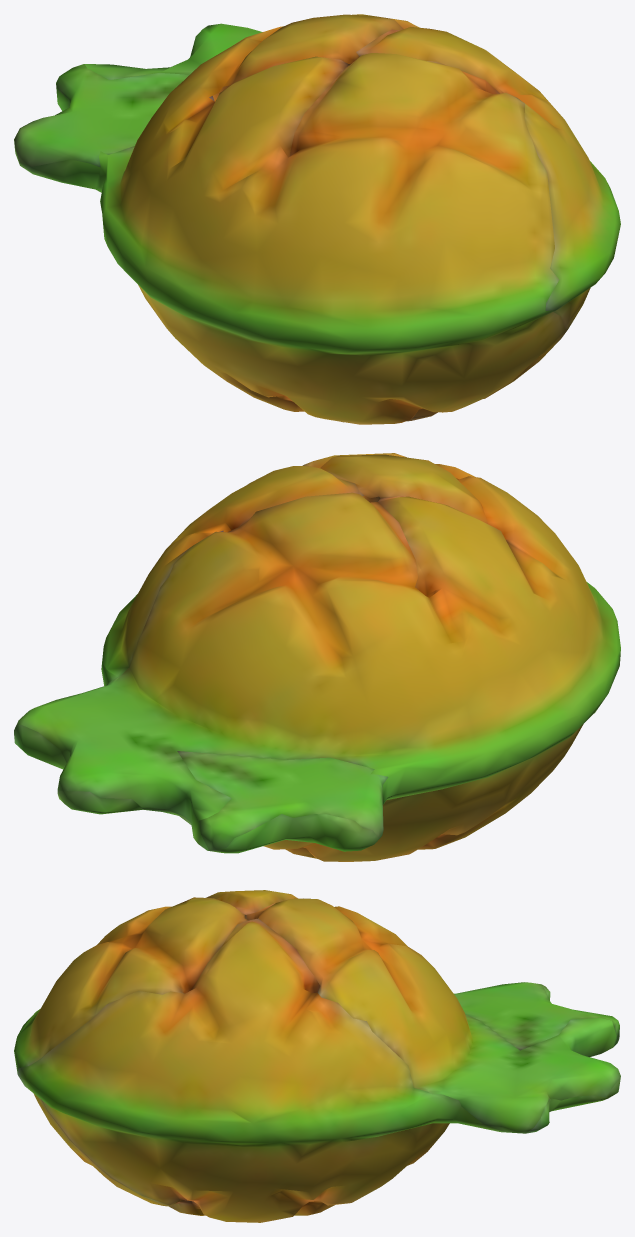
Rendered from PINEAPPLE_MARACA_6_PCSSET-medium.glb.
3 views of the same model, one above another, from view 1: azimuth 30°, elevation 25°; view 2: azimuth 150°, elevation 25°; view 3: azimuth 270°, elevation 25° (orthographic). The views are drawn at different scales.
Parts seen in each view (by area): view 1: PINEAPPLE_MARACA_6_PCSSET; view 2: PINEAPPLE_MARACA_6_PCSSET; view 3: PINEAPPLE_MARACA_6_PCSSET.
Boxes of the visible parts, box(x1,y1,x2,y2) form: PINEAPPLE_MARACA_6_PCSSET: box(14, 14, 620, 424); PINEAPPLE_MARACA_6_PCSSET: box(14, 453, 620, 861); PINEAPPLE_MARACA_6_PCSSET: box(14, 890, 620, 1222).
Bounding box in the file's own units: 0.0687 × 0.0535 × 0.1003.
1 material, 1 textured.
